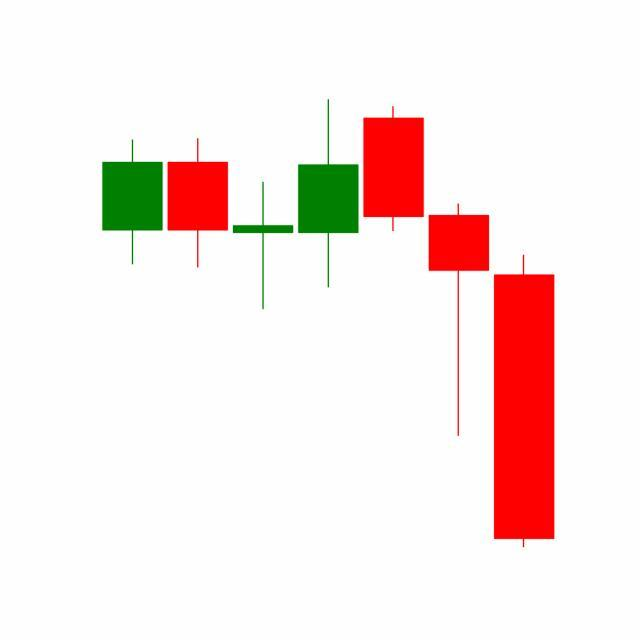Hikkake Pattern: (165, 99, 492, 441)
